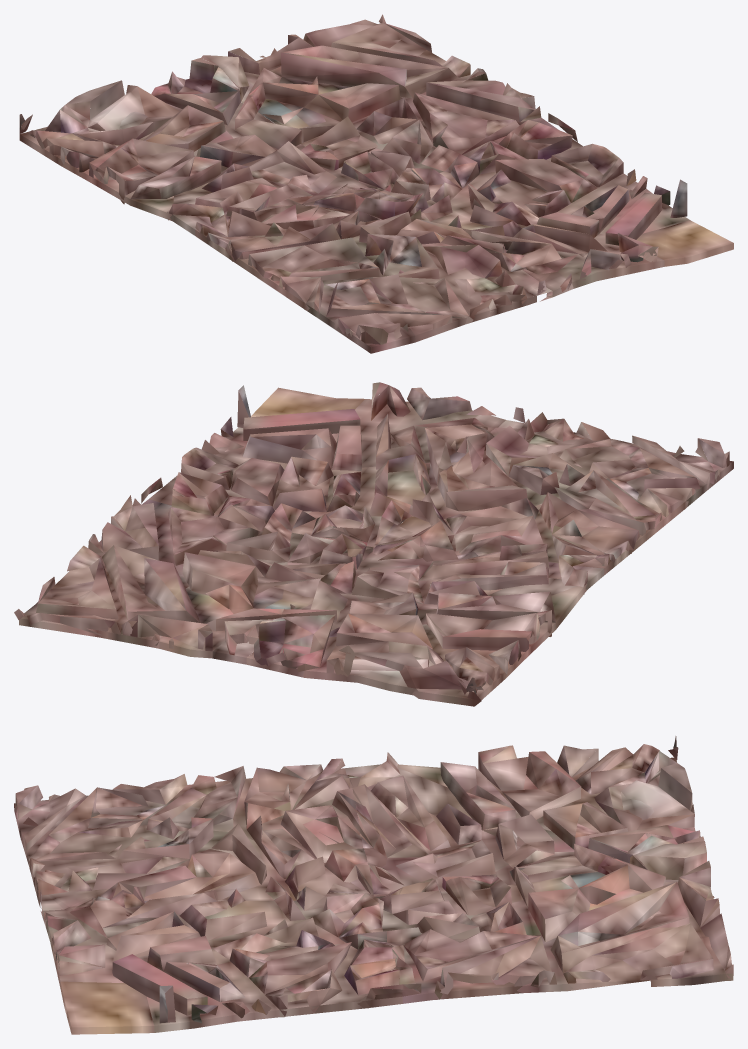
3 renders of one model, top to bottom at view 1: azimuth 30°, elevation 25°; view 2: azimuth 150°, elevation 25°; view 3: azimuth 270°, elevation 25°, orthographic. The views are drawn at different scales.
Visible parts, largest first — view 1: Mesh_0; view 2: Mesh_0; view 3: Mesh_0.
Boxes of the visible parts, x1,y1,x2,y2 form: Mesh_0: [19, 14, 733, 353]; Mesh_0: [14, 382, 733, 706]; Mesh_0: [14, 736, 733, 1034].
Size of the model in its own units: 539 by 66.88 by 659.
2 materials, 2 textured.
